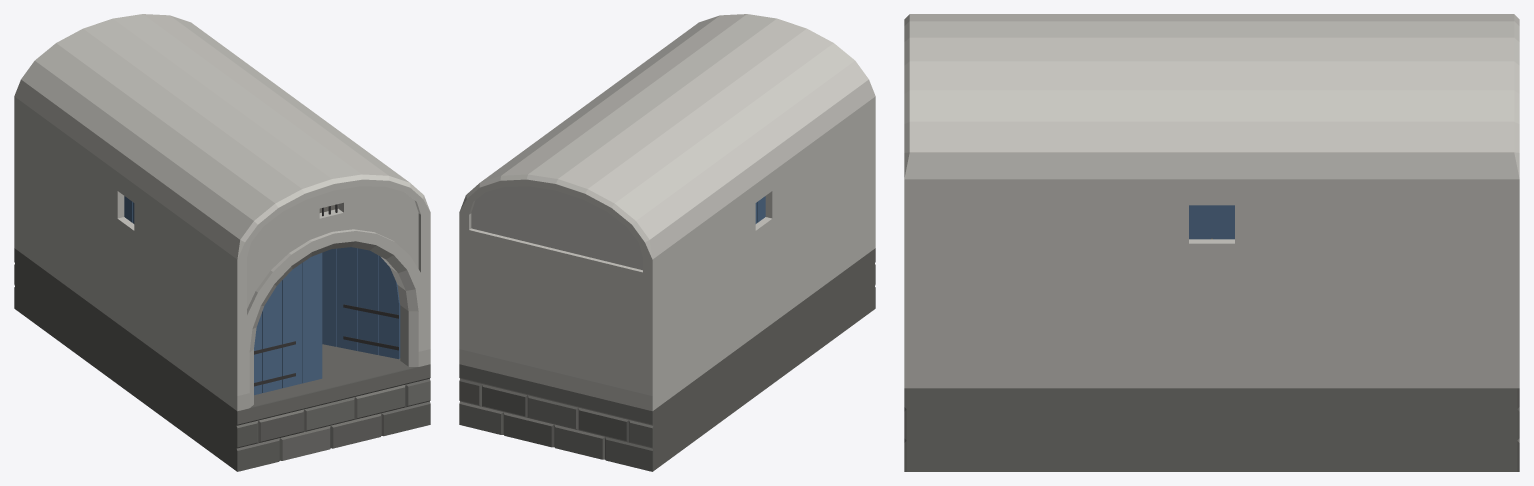
Rendered from boathouse.glb.
The picture shows the model from 3 angles, left to right: view 1: azimuth 30°, elevation 25°; view 2: azimuth 150°, elevation 25°; view 3: azimuth 270°, elevation 25°; orthographic projection. The views are drawn at different scales.
Parts seen in each view (by area): view 1: boathouse-shell, door-right-leaf, door-left-leaf; view 2: boathouse-shell; view 3: boathouse-shell.
Part boxes in pixels (bbox=[...]): boathouse-shell: bbox=[14, 14, 430, 471]; door-right-leaf: bbox=[322, 247, 400, 359]; door-left-leaf: bbox=[254, 253, 322, 395]; boathouse-shell: bbox=[459, 14, 875, 471]; boathouse-shell: bbox=[904, 14, 1519, 471].
Bounding box in the file's own units: 4 × 5.3 × 8.
